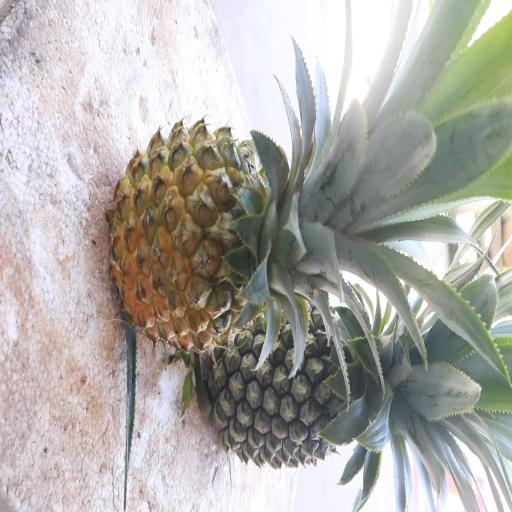Pineapple - v8 v1: (105, 114, 359, 356)
